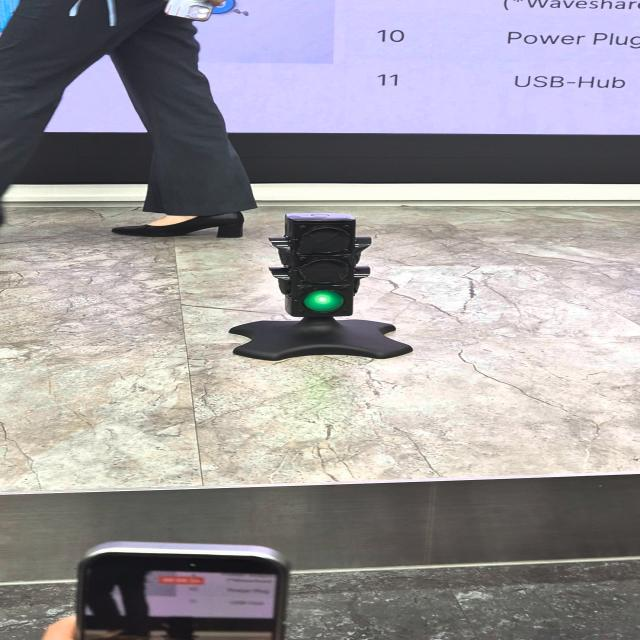green_light: (304, 291, 344, 312)
